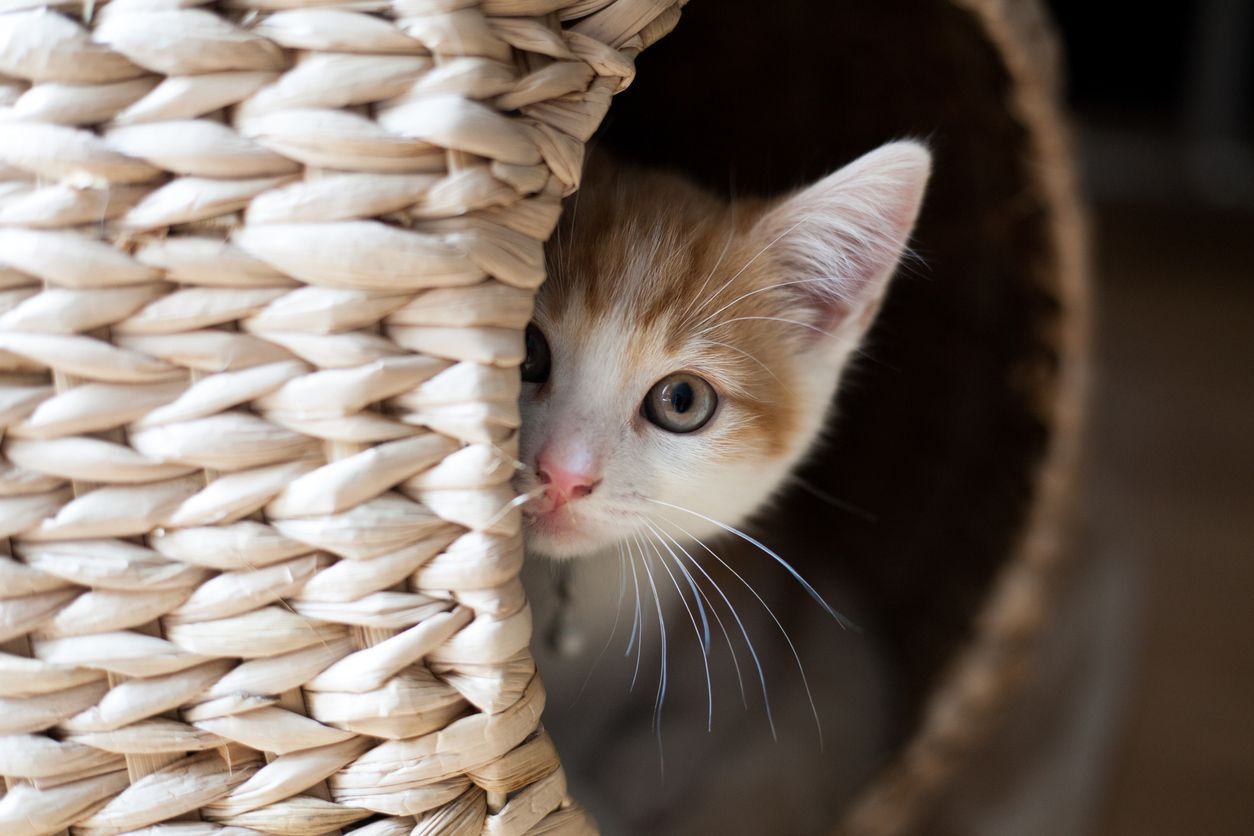Cat: (516, 116, 966, 722)
